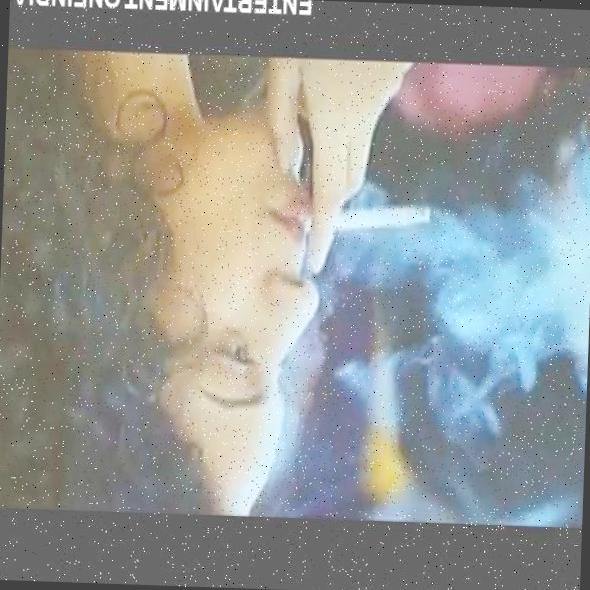smoke: (349, 168, 590, 385)
